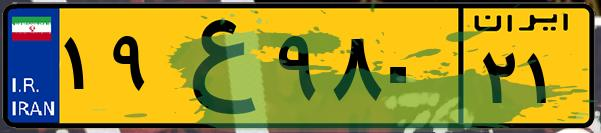0: (385, 28, 445, 110)
1: (57, 26, 110, 100), (525, 38, 570, 115)
2: (475, 38, 525, 113)
8: (330, 28, 385, 110)
9: (270, 28, 330, 110), (110, 28, 158, 98)
ع: (158, 12, 270, 120)
